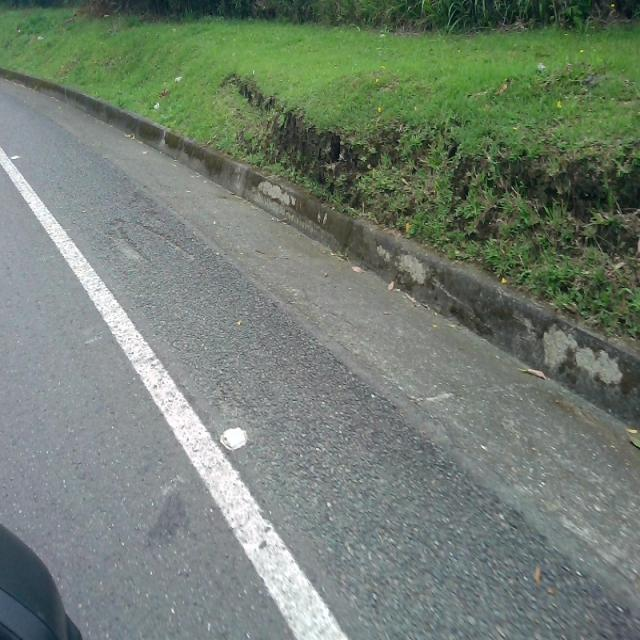DITCH: (1, 68, 638, 638), (1, 136, 638, 638)
